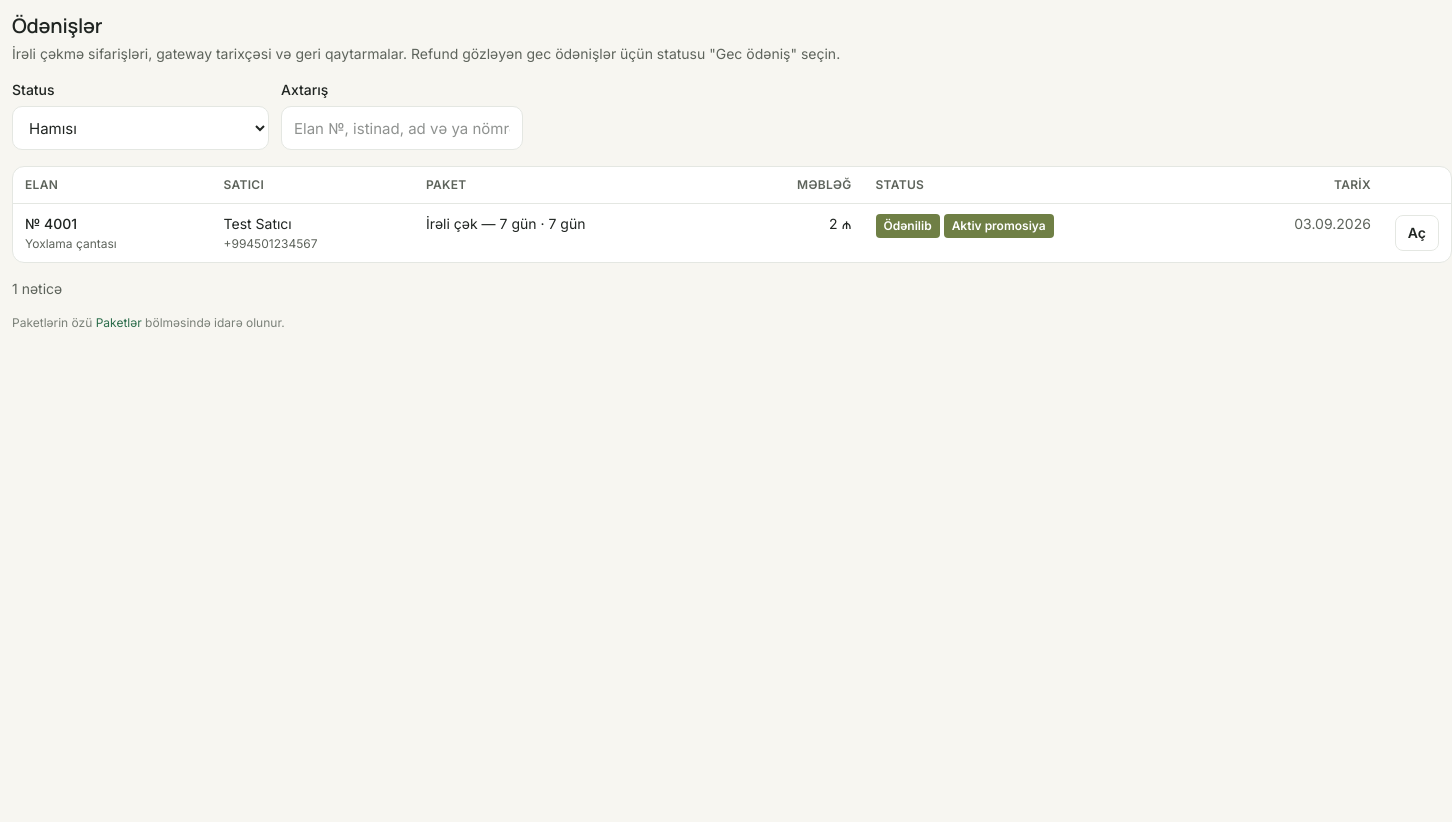
Test: AdminPaymentsPage › lists orders and opens the ledger behind one
Expected: the row with test id "queue-row" shows "№ 4001", [13,204,1451,262]
Expected: the row with test id "queue-row" shows "Ödənilib", [884,218,932,233]
Click the button "Aç": [1417, 233] box [1395,215,1439,251]
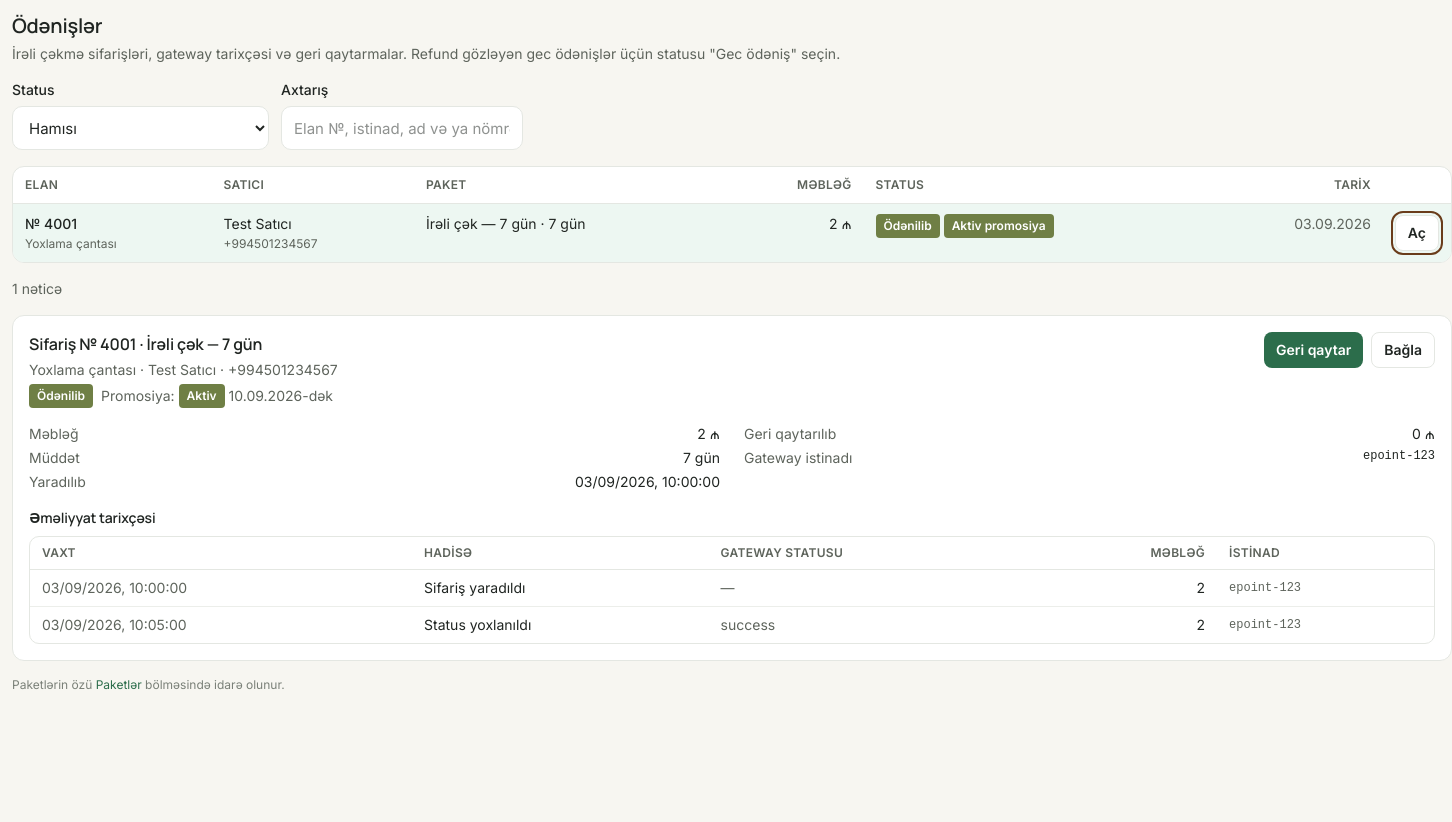
Expected: the text "Status yoxlanıldı" is shown, [412,606,709,643]
Expected: the text "epoint-123" is shown, [1363,448,1435,468]
Expected: the button "Geri qaytar" is shown, [1264,332,1363,368]
